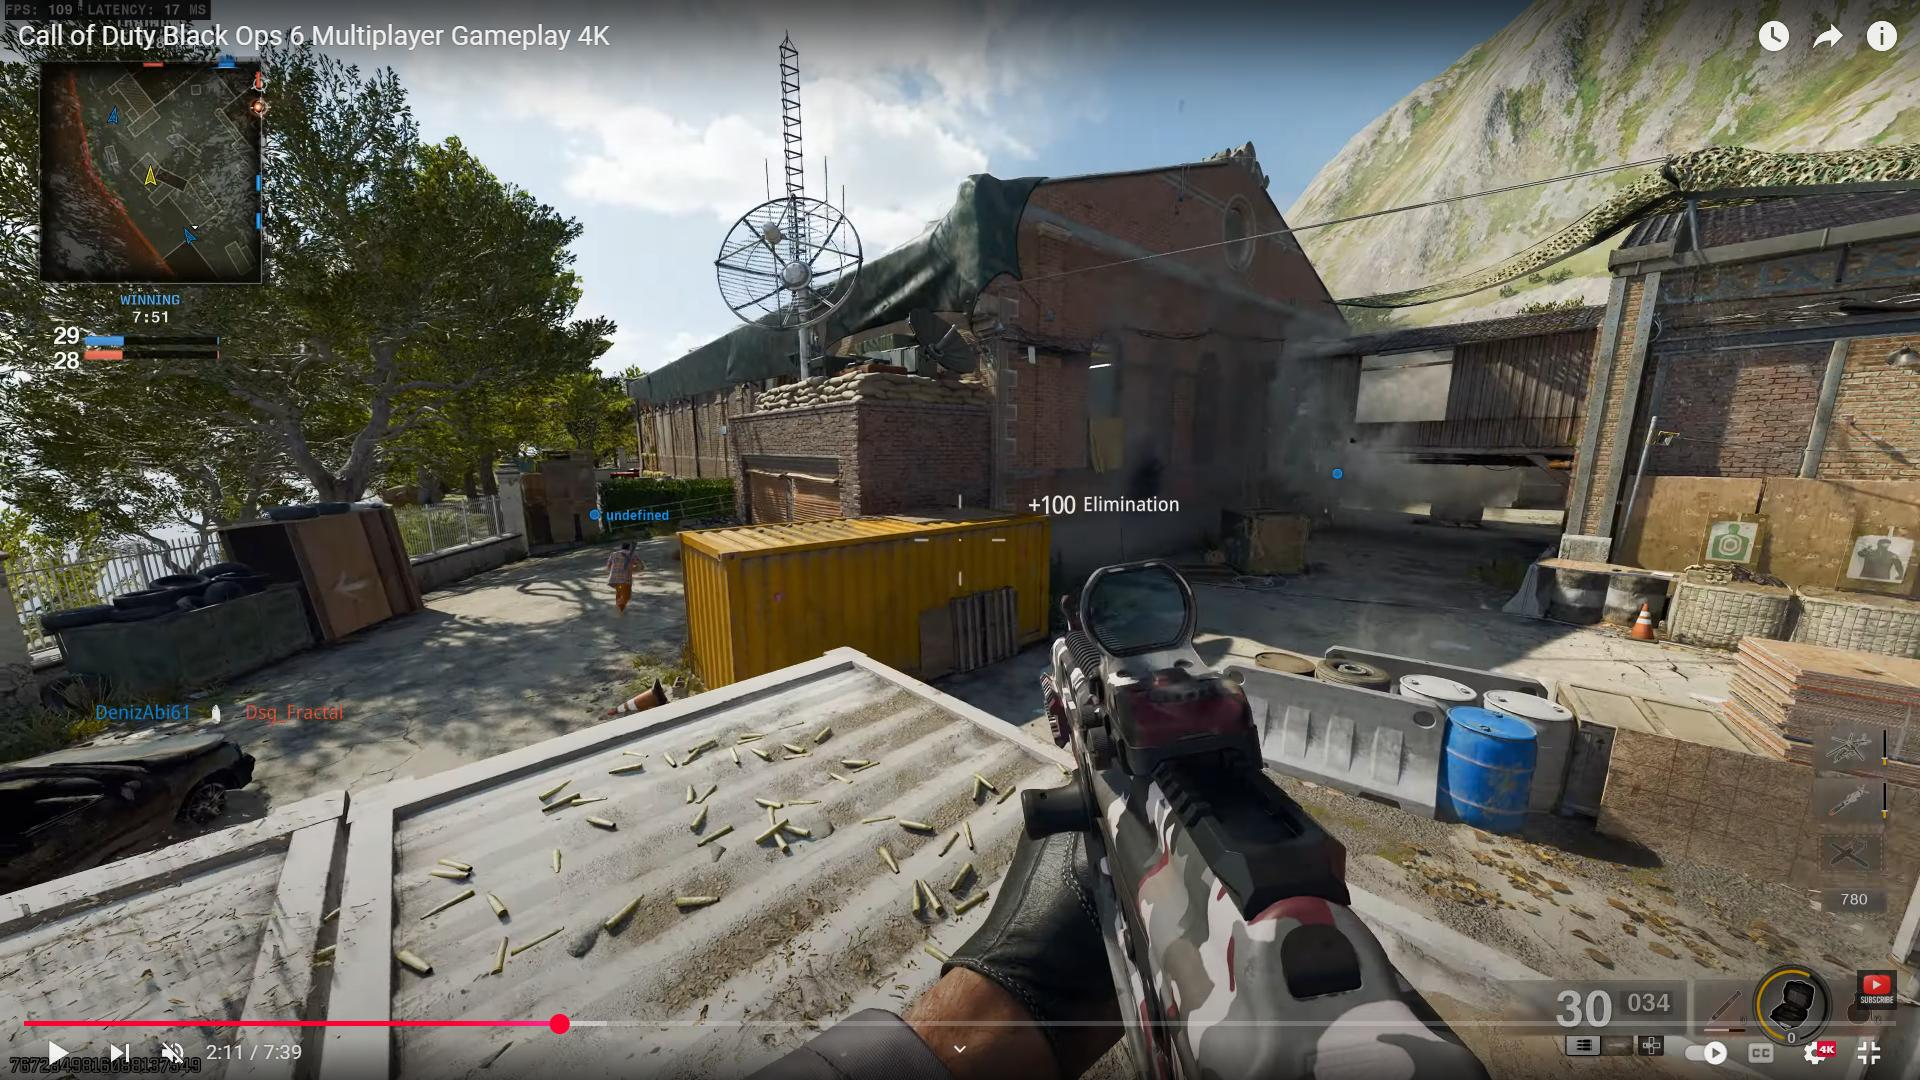Enemy: (589, 531, 647, 617)
